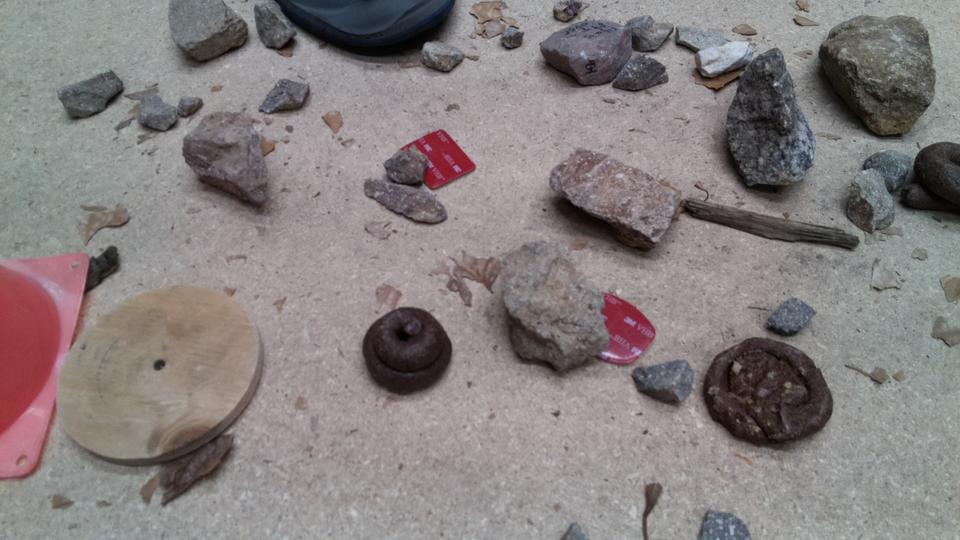poop: (702, 334, 837, 449), (360, 303, 454, 396), (898, 139, 960, 216)
